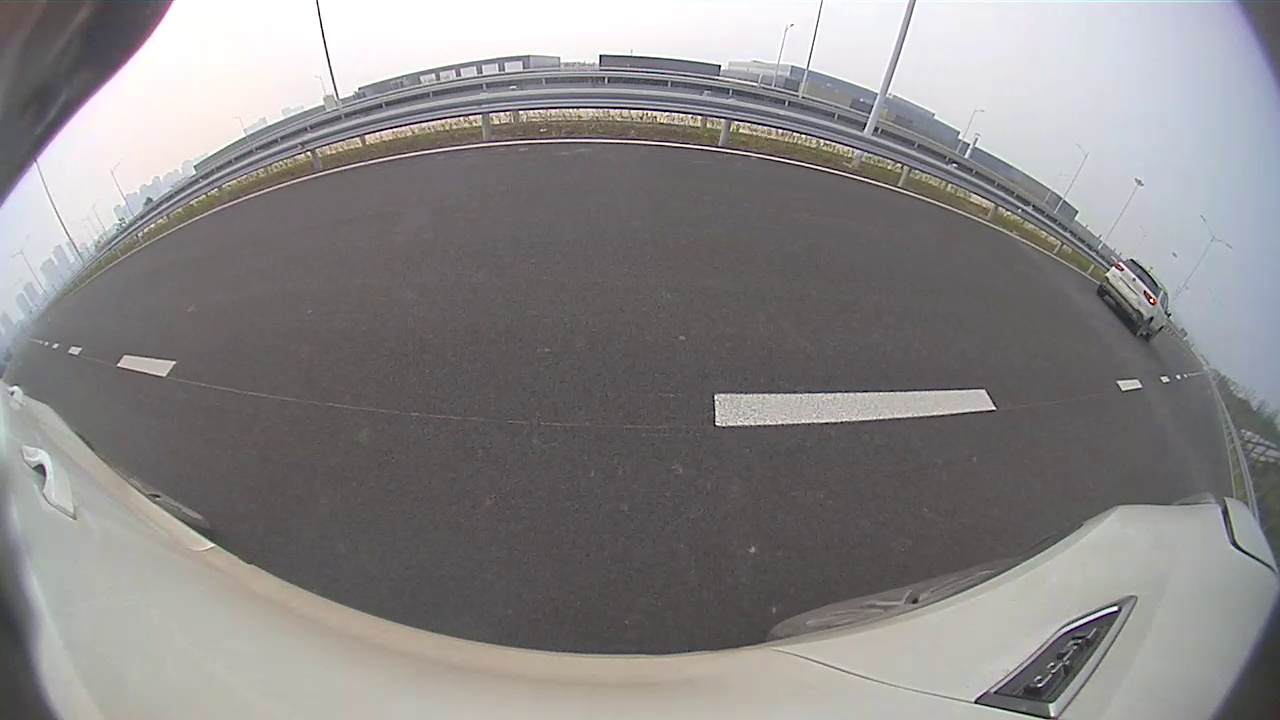car: (1097, 258, 1171, 341)
